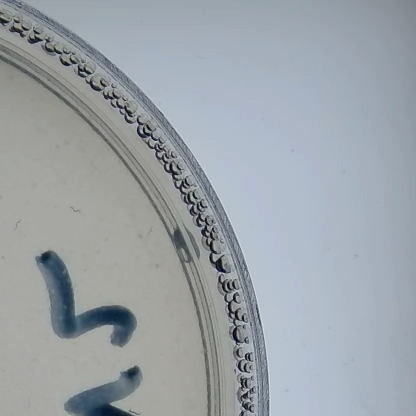worm: (10, 215, 25, 233), (67, 205, 85, 217), (145, 224, 159, 237)
